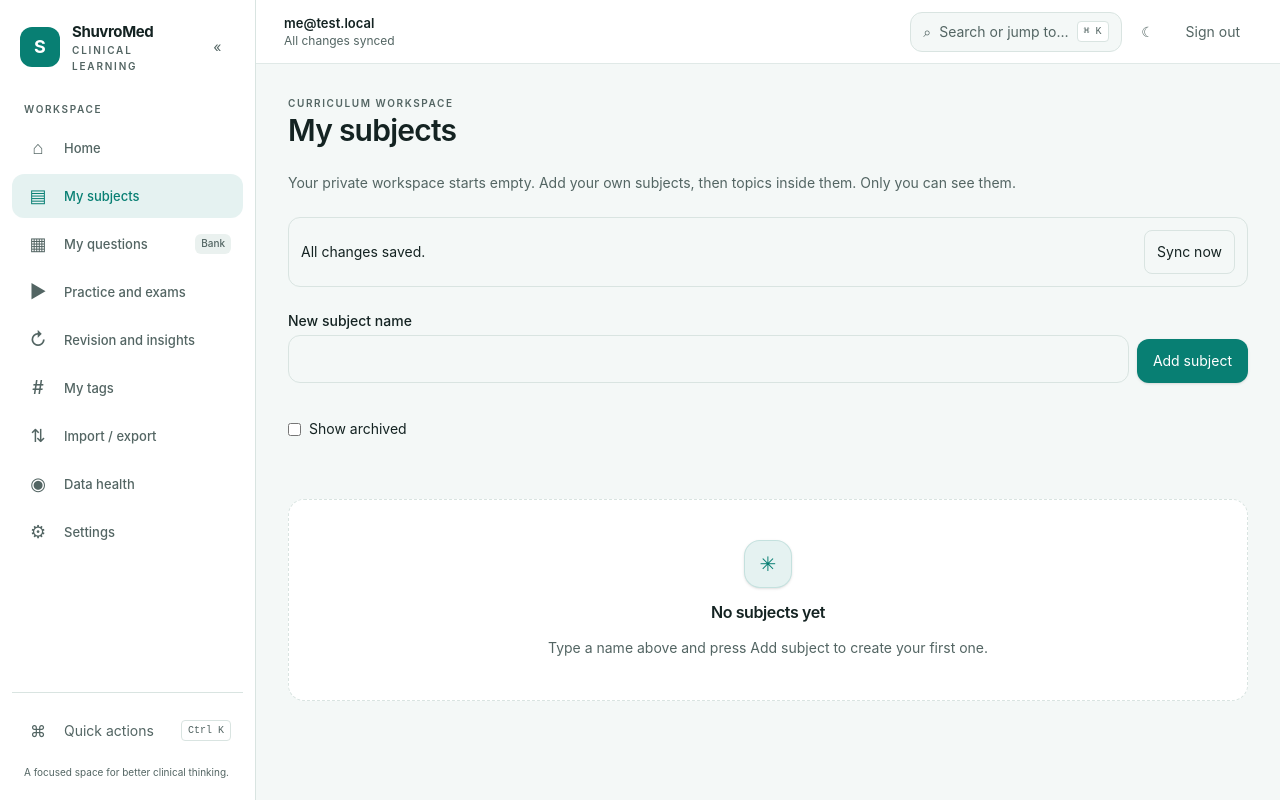
it: My subjects with the on-device store › shows what another device added after a sync
Expected: the heading "No subjects yet" is shown, [711,600,825,624]
Step 1. Click the button "Sync now" → (1190, 252), box [1144,230,1235,274]
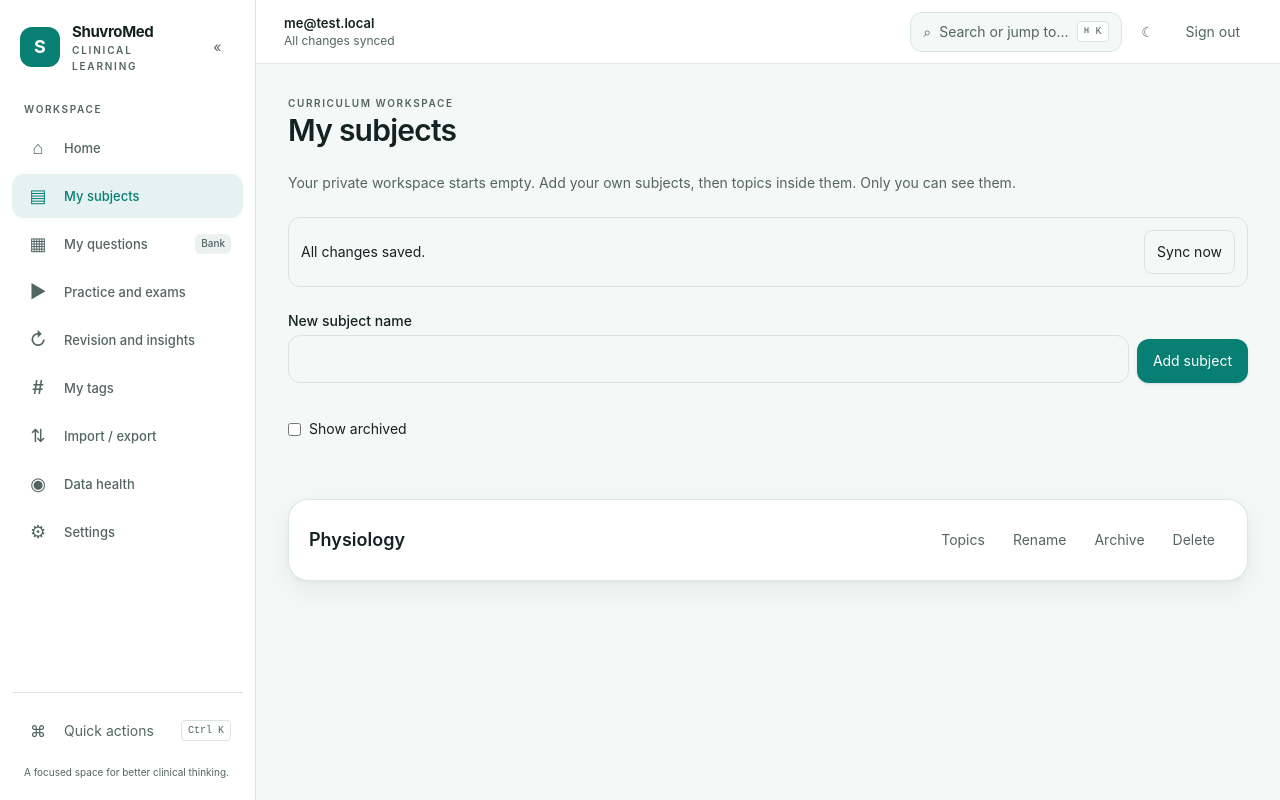
Now the heading "Physiology" is shown, box [309,526,405,554]
